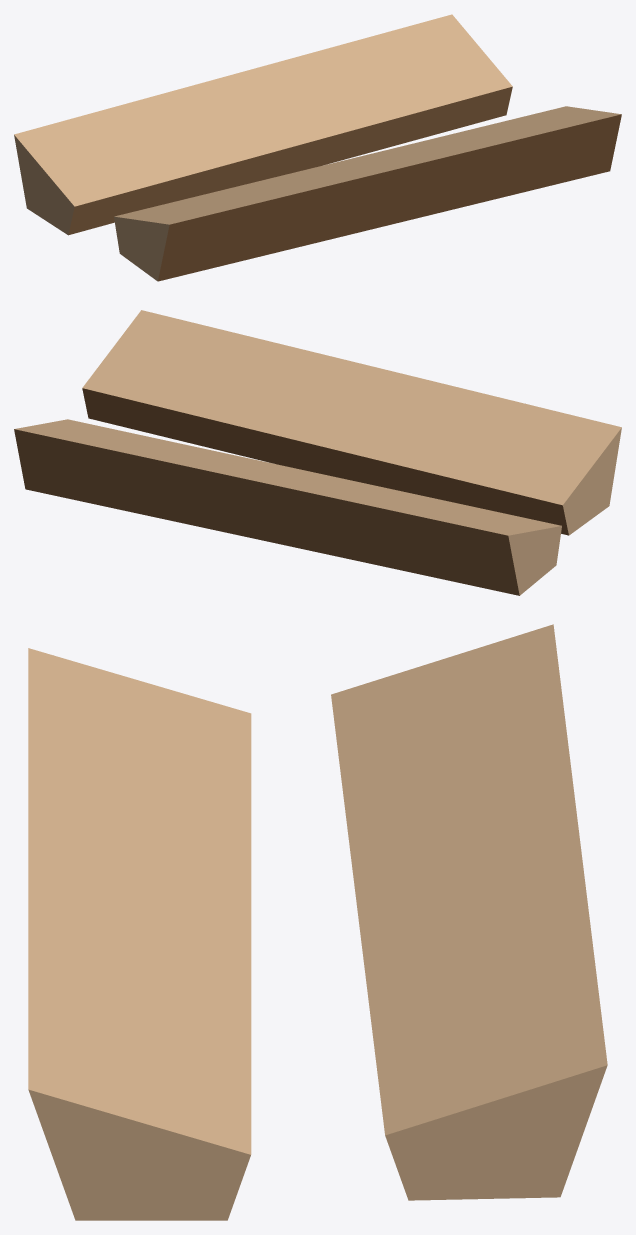
Rendered from Pine_Firewood_06.fbx.
The picture shows the model from 3 angles, top to bottom: view 1: azimuth 30°, elevation 25°; view 2: azimuth 150°, elevation 25°; view 3: azimuth 270°, elevation 25°; orthographic projection. The views are drawn at different scales.
Visible parts, largest first — view 1: Pine_Firewood_06; view 2: Pine_Firewood_06; view 3: Pine_Firewood_06.
Part boxes in pixels (x1,y1,x2,y2): Pine_Firewood_06: (14, 14, 621, 281); Pine_Firewood_06: (14, 310, 621, 595); Pine_Firewood_06: (28, 624, 607, 1220).
Bounding box in the file's own units: 59.01 × 7.76 × 31.06.
